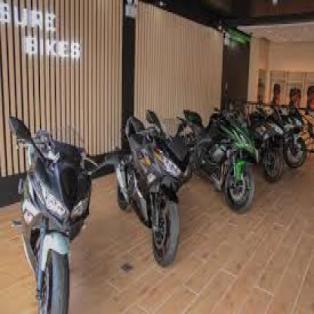Motocicleta: (6, 113, 106, 313), (118, 104, 186, 274)
